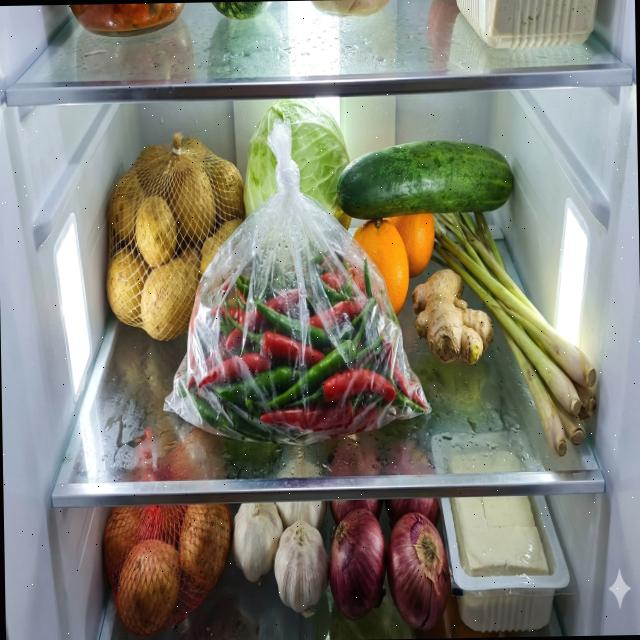cabbage: (240, 96, 352, 233)
chili: (172, 255, 432, 447)
cucumber: (336, 137, 514, 220)
garlic: (231, 499, 329, 614)
ginger: (410, 266, 494, 366)
lemongrass: (431, 205, 598, 456)
onion: (328, 498, 451, 632)
orange: (353, 212, 436, 318)
potato: (101, 134, 246, 342), (102, 501, 235, 635)
tofu: (450, 495, 548, 578)
